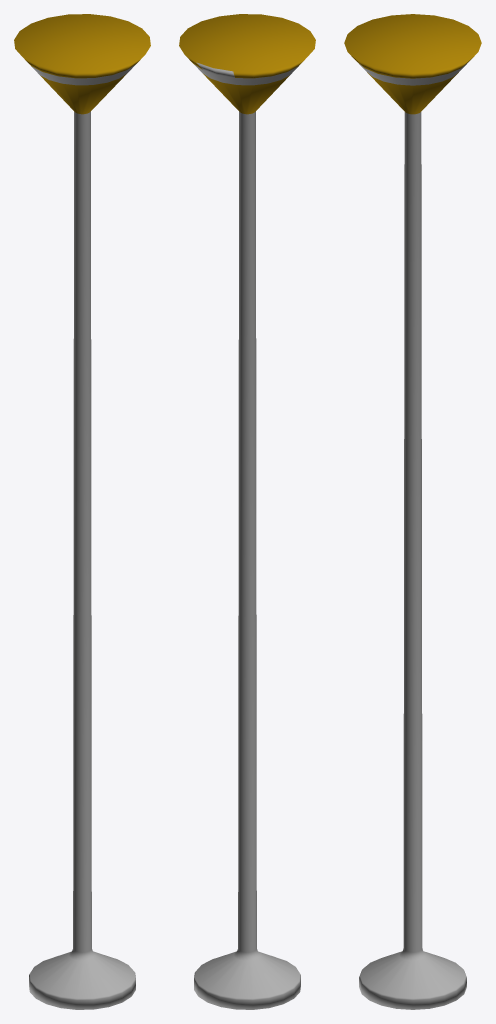
The model's file is En_P_Lamp.fbx.
The picture shows the model from 3 angles, left to right: view 1: azimuth 30°, elevation 25°; view 2: azimuth 150°, elevation 25°; view 3: azimuth 270°, elevation 25°; orthographic projection.
Parts seen in each view (by area): view 1: En_P_Lamp; view 2: En_P_Lamp; view 3: En_P_Lamp.
Boxes of the visible parts, x1,y1,x2,y2 form: En_P_Lamp: (14, 14, 150, 1009); En_P_Lamp: (179, 14, 315, 1009); En_P_Lamp: (344, 14, 481, 1009).
Bounding box in the file's own units: 24.8 × 188 × 24.8.
